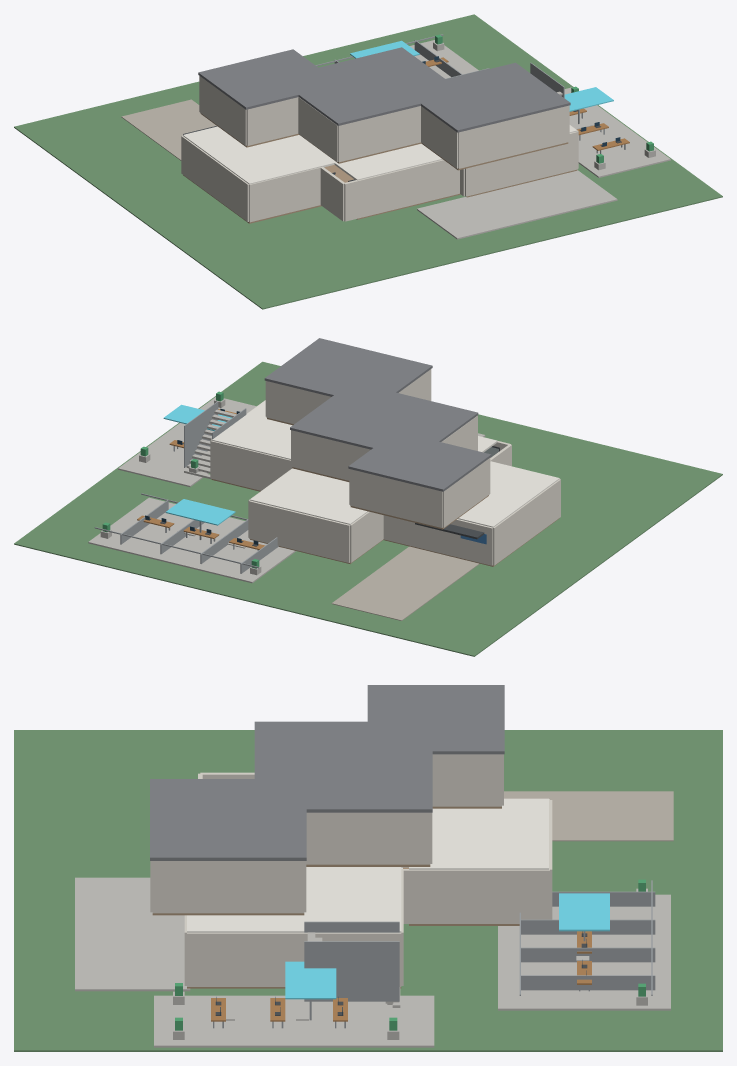
File: james-west-alumni-center-concept.glb
The picture shows the model from 3 angles, top to bottom: view 1: azimuth 30°, elevation 25°; view 2: azimuth 150°, elevation 25°; view 3: azimuth 270°, elevation 25°; orthographic projection. The views are drawn at different scales.
Parts seen in each view (by area): view 1: landscape, stucco, roof, concrete, interior, path, floor, cyan, steel, wood; view 2: landscape, stucco, roof, concrete, interior, path, steel, cyan, floor, wood; view 3: landscape, concrete, stucco, roof, interior, steel, path, cyan, wood, floor.
Boxes of the visible parts, left/top/right/bottom form: landscape: left=14, top=14, right=722, bottom=309; stucco: left=181, top=76, right=578, bottom=222; roof: left=198, top=47, right=570, bottom=132; concrete: left=409, top=40, right=670, bottom=239; interior: left=183, top=125, right=577, bottom=184; path: left=121, top=99, right=216, bottom=160; floor: left=183, top=113, right=577, bottom=223; cyan: left=350, top=40, right=613, bottom=111; steel: left=315, top=34, right=625, bottom=153; wood: left=425, top=57, right=629, bottom=150; landscape: left=14, top=361, right=722, bottom=656; stucco: left=210, top=369, right=560, bottom=565; roof: left=264, top=338, right=491, bottom=491; concrete: left=88, top=397, right=485, bottom=583; interior: left=211, top=400, right=559, bottom=527; path: left=331, top=546, right=479, bottom=620; steel: left=94, top=401, right=278, bottom=573; cyan: left=163, top=404, right=235, bottom=525; floor: left=211, top=417, right=559, bottom=566; wood: left=137, top=409, right=264, bottom=549; landscape: left=14, top=730, right=722, bottom=1051; concrete: left=75, top=877, right=670, bottom=1047; stucco: left=150, top=754, right=552, bottom=986; roof: left=150, top=685, right=504, bottom=860; interior: left=187, top=798, right=548, bottom=932; steel: left=213, top=880, right=655, bottom=1028; path: left=504, top=791, right=673, bottom=841; cyan: left=285, top=893, right=609, bottom=999; wood: left=211, top=931, right=591, bottom=1021; floor: left=152, top=806, right=519, bottom=988.
Size of the model in its own units: 46 by 8.12 by 43.
